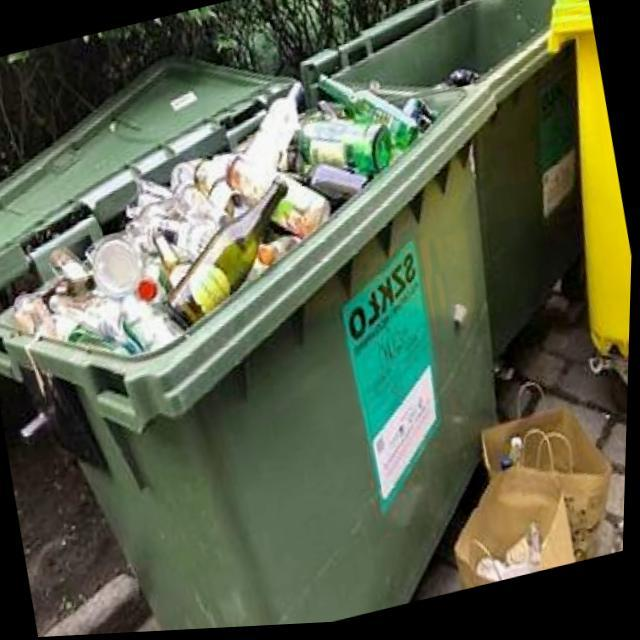Garbage: (16, 77, 435, 355)
Glass_bottle: (173, 184, 285, 326), (318, 81, 416, 151), (297, 122, 390, 178), (245, 85, 300, 171), (155, 234, 192, 290)
Plastic_bottle: (272, 179, 328, 240), (227, 159, 276, 207)
